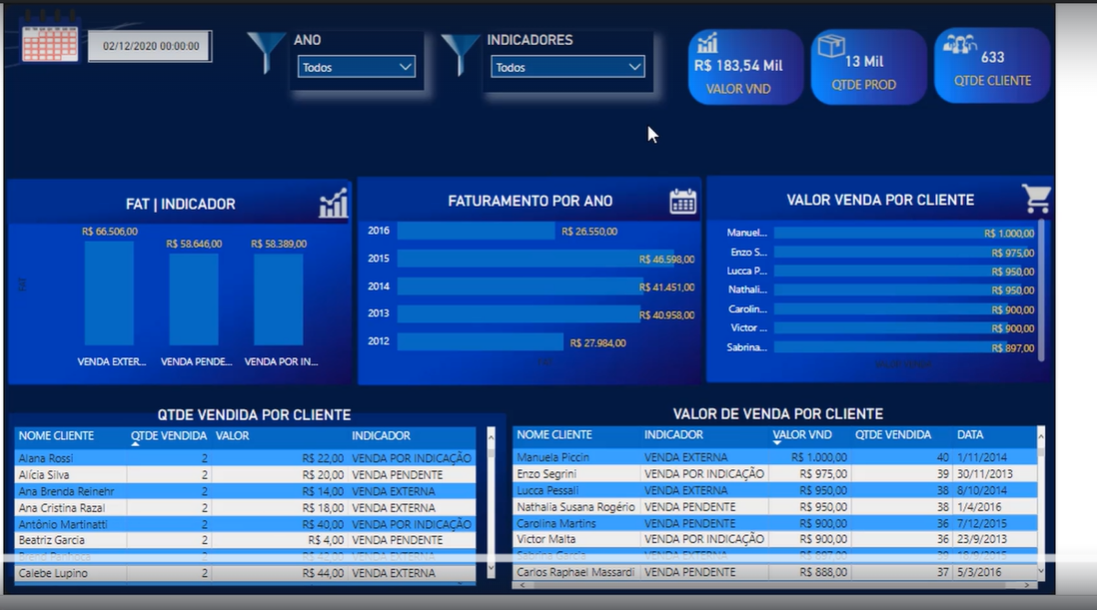

The page's visual inventory and layout, read from the dashboard file:
{"tool":"powerbi","page":{"name":"Página 1","canvas":[1280,720],"ordinal":0},"visuals":[{"type":"card","fields":{"Values":["tbIndicadores.QTD_CLIENTES"]},"box":[1133.2,31.9,146.3,98.4],"z":0},{"type":"card","fields":{"Values":["tbIndicadores.FATURAMENTO"]},"box":[833.9,31.9,147.6,98.4],"z":1000},{"type":"card","fields":{"Values":["Sum(tbIndicadores.QUANTIDADE VENDIDA)"]},"box":[981.6,43.9,142.3,70.5],"z":2000},{"type":"columnChart","fields":{"Category":["tbIndicadores.INDICADOR"],"Y":["tbIndicadores.FATURAMENTO"]},"box":[0,222.1,425.6,244.7],"z":3000},{"type":"barChart","fields":{"Category":["tbIndicadores.DATA.Variation.Hierarquia de datas.Ano","INDICADORES.DATA.Variation.Hierarquia de datas.Mês"],"Y":["tbIndicadores.FATURAMENTO"]},"box":[428.3,210.1,425.6,244.7],"z":4000},{"type":"tableEx","title":"RESUMO DE QTDE VALOR INDICADOR","fields":{"Values":["tbIndicadores.NOME CLIENTE","Sum(INDICADORES.QUANTIDADE VENDIDA)","INDICADORES.FATURAMENTO","INDICADORES.INDICADOR"]},"box":[27.1,472.9,588.6,247.1],"z":5000},{"type":"tableEx","title":"VALOR DE VENDA POR CLIENTE","fields":{"Values":["INDICADORES.DATA","Sum(INDICADORES.CUSTO DE VENDA)","INDICADORES.FATURAMENTO","INDICADORES.INDICADOR"]},"box":[660,472.9,588.6,247.1],"z":6000},{"type":"barChart","title":"FATURAMENTO por CLIENTE","fields":{"Y":["tbIndicadores.FATURAMENTO"],"Category":["INDICADORES.NOME CLIENTE"]},"box":[854.3,210,425.7,244.3],"z":7000},{"type":"slicer","fields":{"Values":["INDICADORES.DATA.Variation.Hierarquia de datas.Ano","INDICADORES.DATA.Variation.Hierarquia de datas.Mês"]},"box":[352.9,31.4,172.9,68.6],"z":8000},{"type":"slicer","fields":{"Values":["INDICADORES.INDICADOR"]},"box":[602.9,31.4,172.9,68.6],"z":8001},{"type":"card","fields":{"Values":["INDICADORES.DATA ATUAL"]},"box":[104.3,28.6,147.1,37.1],"z":8002}]}

Visuals, with their boxes in screenshot pixels (x1, y1, x2, y2), scaled from the page's 1280x720 canvas onto the 1097x610 screenshot:
card - tbIndicadores.QTD_CLIENTES: left=971, top=27, right=1096, bottom=110
card - tbIndicadores.FATURAMENTO: left=715, top=27, right=841, bottom=110
card - Sum(tbIndicadores.QUANTIDADE VENDIDA): left=841, top=37, right=963, bottom=97
columnChart - tbIndicadores.INDICADOR x tbIndicadores.FATURAMENTO: left=0, top=188, right=365, bottom=395
barChart - tbIndicadores.DATA.Variation.Hierarquia de datas.Ano x INDICADORES.DATA.Variation.Hierarquia de datas.Mês: left=367, top=178, right=732, bottom=385
"RESUMO DE QTDE VALOR INDICADOR" tableEx: left=23, top=401, right=528, bottom=609
"VALOR DE VENDA POR CLIENTE" tableEx: left=566, top=401, right=1070, bottom=609
"FATURAMENTO por CLIENTE" barChart: left=732, top=178, right=1096, bottom=385
slicer - INDICADORES.DATA.Variation.Hierarquia de datas.Ano x INDICADORES.DATA.Variation.Hierarquia de datas.Mês: left=302, top=27, right=451, bottom=85
slicer - INDICADORES.INDICADOR: left=517, top=27, right=665, bottom=85
card - INDICADORES.DATA ATUAL: left=89, top=24, right=215, bottom=56
